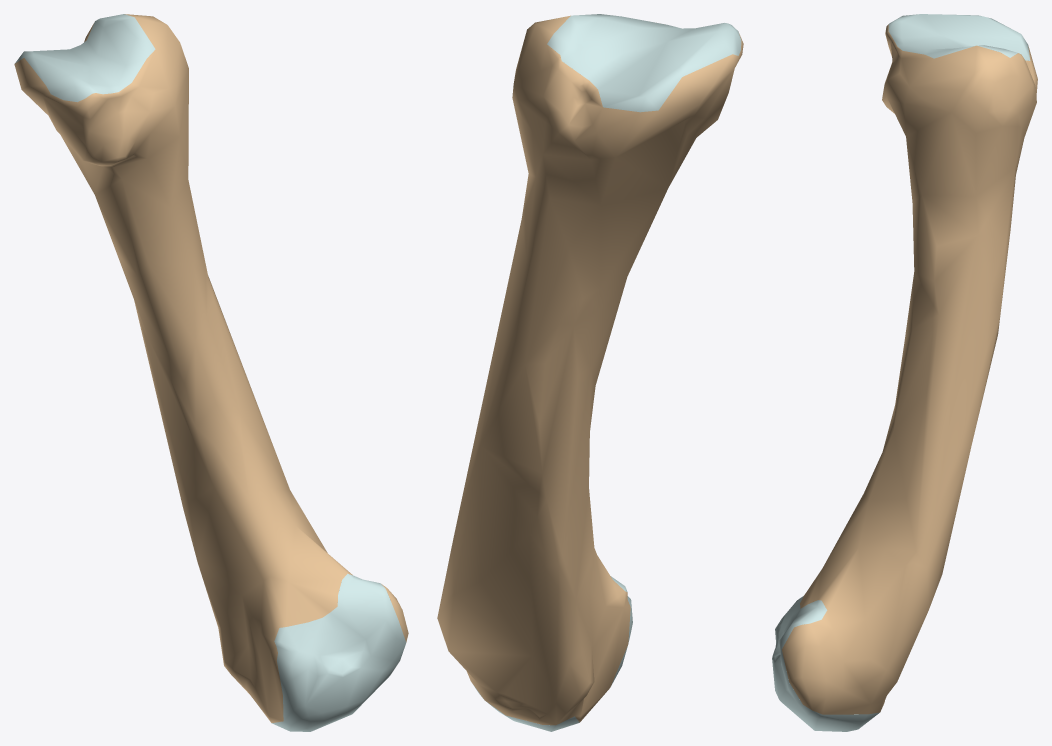
The model's file is 2d_metacarpal_bone.l_Generated_Mesh_From_X3D.741.glb.
The picture shows the model from 3 angles, left to right: view 1: azimuth 30°, elevation 25°; view 2: azimuth 150°, elevation 25°; view 3: azimuth 270°, elevation 25°; orthographic projection. The views are drawn at different scales.
Visible parts, largest first — view 1: 2d_metacarpal_bone.l_Generated_Mesh_From_X3D.741; view 2: 2d_metacarpal_bone.l_Generated_Mesh_From_X3D.741; view 3: 2d_metacarpal_bone.l_Generated_Mesh_From_X3D.741.
Boxes of the visible parts, bbox=[...] form: 2d_metacarpal_bone.l_Generated_Mesh_From_X3D.741: bbox=[14, 14, 408, 731]; 2d_metacarpal_bone.l_Generated_Mesh_From_X3D.741: bbox=[437, 14, 743, 731]; 2d_metacarpal_bone.l_Generated_Mesh_From_X3D.741: bbox=[772, 14, 1037, 731].
Bounding box in the file's own units: 0.0321 × 0.0705 × 0.0267.
